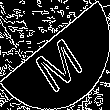M_NW: (26, 21, 84, 89)
